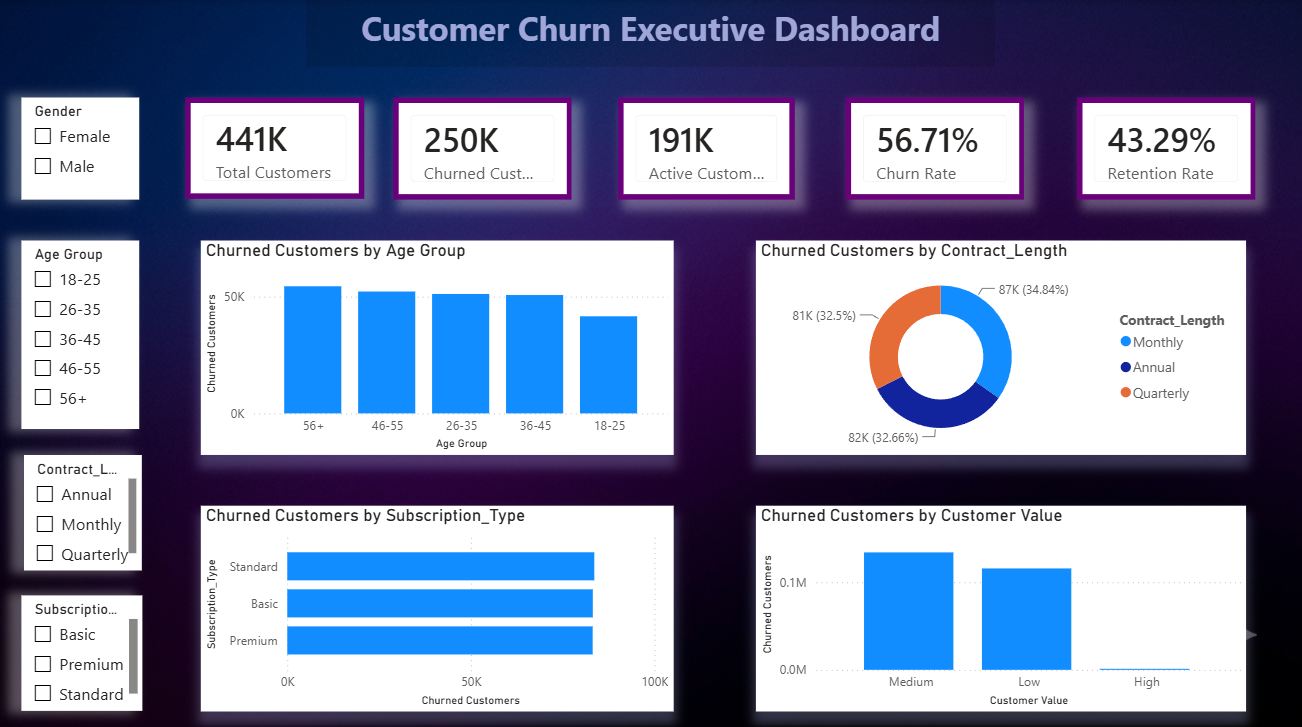

The page's visual inventory and layout, read from the dashboard file:
{"tool":"powerbi","page":{"name":"Page 1","canvas":[1280,720],"ordinal":0},"visuals":[{"type":"cardVisual","fields":{"Data":["customer_churn.Total Customers"]},"box":[182.9,95.1,175.6,99.5],"z":1000},{"type":"cardVisual","fields":{"Data":["customer_churn.Active Customers"]},"box":[606.7,95,173.3,100],"z":2000},{"type":"cardVisual","fields":{"Data":["customer_churn.Churn Rate"]},"box":[830,95,175,100],"z":3000},{"type":"cardVisual","fields":{"Data":["customer_churn.Retention Rate"]},"box":[1056.7,95,175,100],"z":4000},{"type":"textbox","box":[301.7,0,675,65],"z":5000},{"type":"cardVisual","fields":{"Data":["customer_churn.Churned Customers"]},"box":[386.7,95,175,100],"z":6000},{"type":"slicer","fields":{"Values":["customer_churn.Gender"]},"box":[23.3,95,115,100],"z":7000},{"type":"slicer","fields":{"Values":["customer_churn.Subscription_Type"]},"box":[22.9,582.9,118.6,112.9],"z":8000},{"type":"slicer","fields":{"Values":["customer_churn.Contract_Length"]},"box":[25,445,115,113.3],"z":9000},{"type":"slicer","fields":{"Values":["customer_churn.Age Group"]},"box":[23.3,235,115,185],"z":10000},{"type":"donutChart","fields":{"Category":["customer_churn.Contract_Length"],"Y":["customer_churn.Churned Customers"]},"box":[741.9,235.7,480,210],"z":11000},{"type":"clusteredBarChart","fields":{"Category":["customer_churn.Subscription_Type"],"Y":["customer_churn.Churned Customers"]},"box":[198.6,495.7,462.9,201.4],"z":12000},{"type":"clusteredColumnChart","fields":{"Category":["customer_churn.Age Group"],"Y":["customer_churn.Churned Customers"]},"box":[198.6,235.7,462.9,210],"z":13000},{"type":"clusteredColumnChart","fields":{"Category":["customer_churn.Customer Value"],"Y":["customer_churn.Churned Customers"]},"box":[741.9,495.7,480,201.4],"z":14000}]}

Visuals, with their boxes in screenshot pixels (x1, y1, x2, y2), scaled from the page's 1280x720 canvas onto the 1302x727 screenshot:
cardVisual - customer_churn.Total Customers: 186:96:365:196
cardVisual - customer_churn.Active Customers: 617:96:793:197
cardVisual - customer_churn.Churn Rate: 844:96:1022:197
cardVisual - customer_churn.Retention Rate: 1075:96:1253:197
textbox: 307:0:993:66
cardVisual - customer_churn.Churned Customers: 393:96:571:197
slicer - customer_churn.Gender: 24:96:141:197
slicer - customer_churn.Subscription_Type: 23:589:144:703
slicer - customer_churn.Contract_Length: 25:449:142:564
slicer - customer_churn.Age Group: 24:237:141:424
donutChart - customer_churn.Contract_Length x customer_churn.Churned Customers: 755:238:1243:450
clusteredBarChart - customer_churn.Subscription_Type x customer_churn.Churned Customers: 202:501:673:704
clusteredColumnChart - customer_churn.Age Group x customer_churn.Churned Customers: 202:238:673:450
clusteredColumnChart - customer_churn.Customer Value x customer_churn.Churned Customers: 755:501:1243:704
